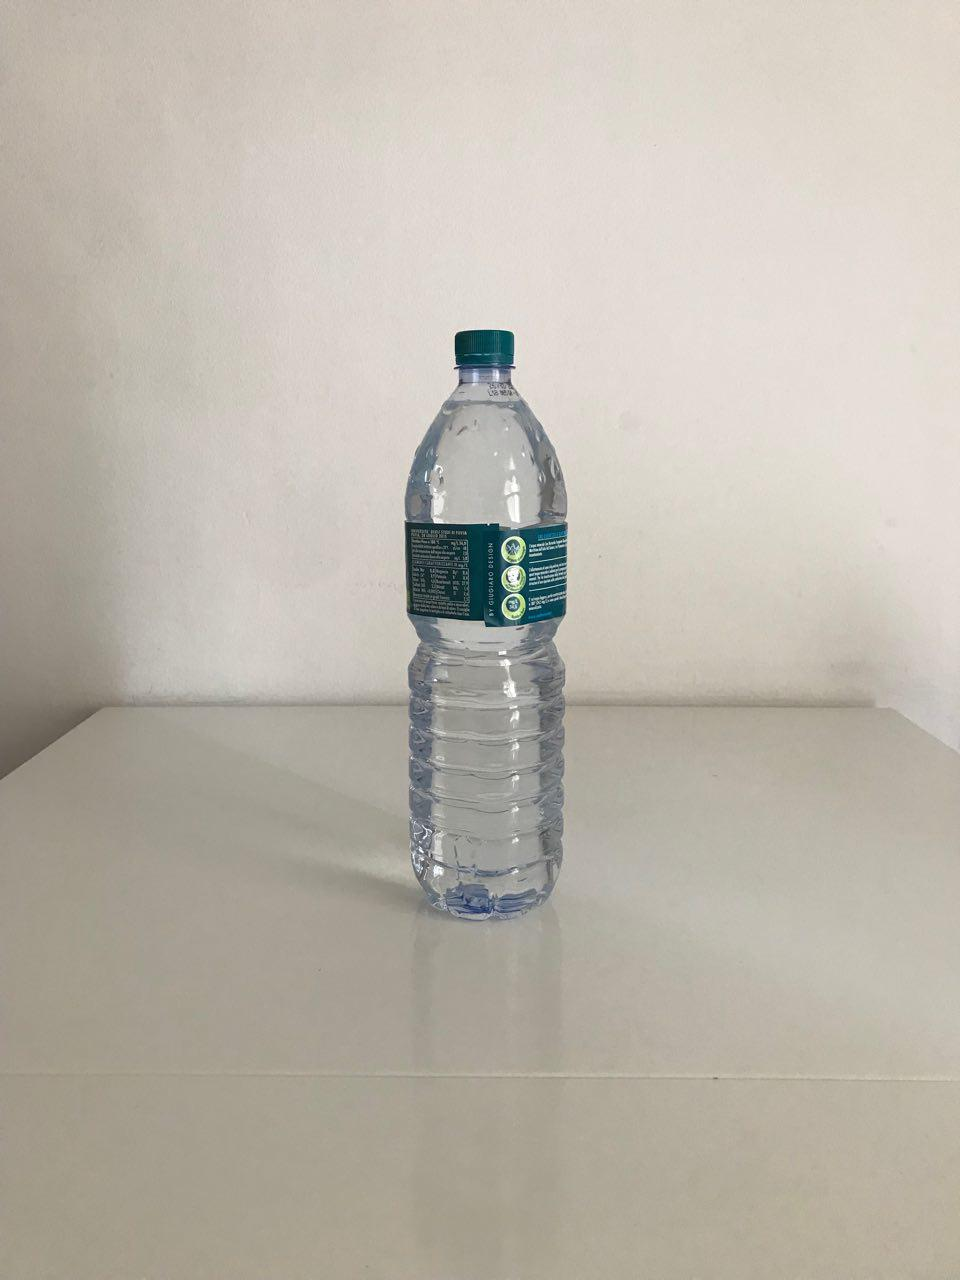san_bernardo: (402, 327, 570, 924)
